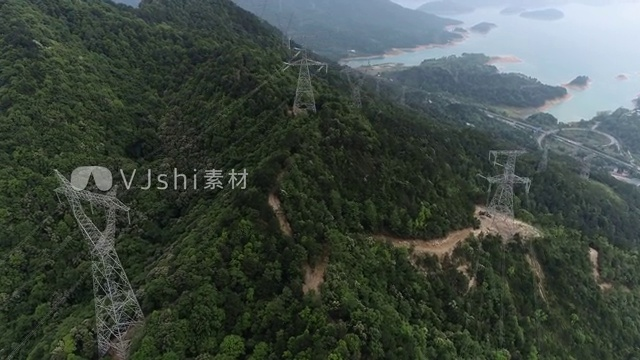tower_body: (46, 172, 156, 358), (480, 144, 535, 243), (285, 36, 324, 119)
tower_foot: (90, 301, 145, 356), (484, 218, 517, 241)
tower_head: (50, 176, 129, 252), (484, 148, 532, 163)
